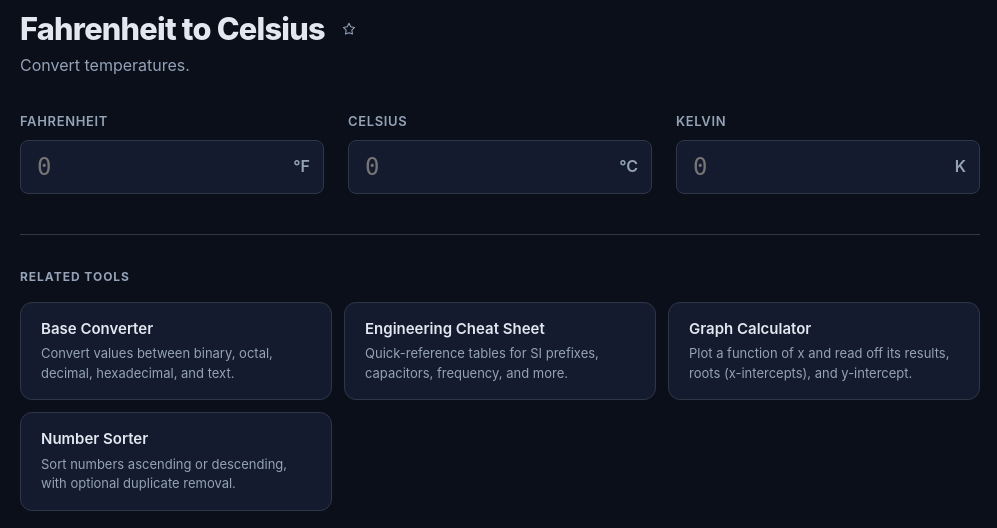
FahrenheitCelsius › converts 32°F to 0°C
Type "32" into the number field named "fahrenheit" at coordinates (172, 166), box [20,140,324,194]
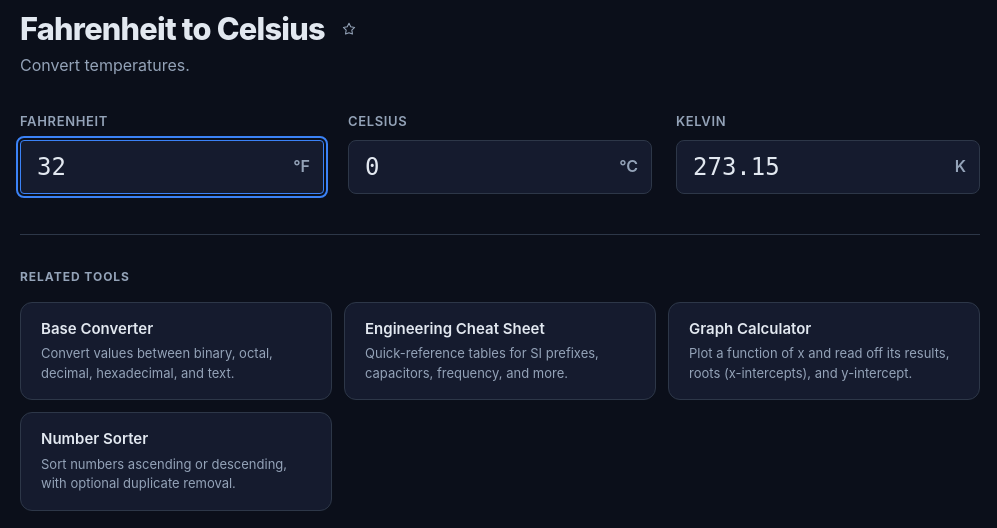
Now the number field named "celsius" holds "0", box [348,140,652,194]
